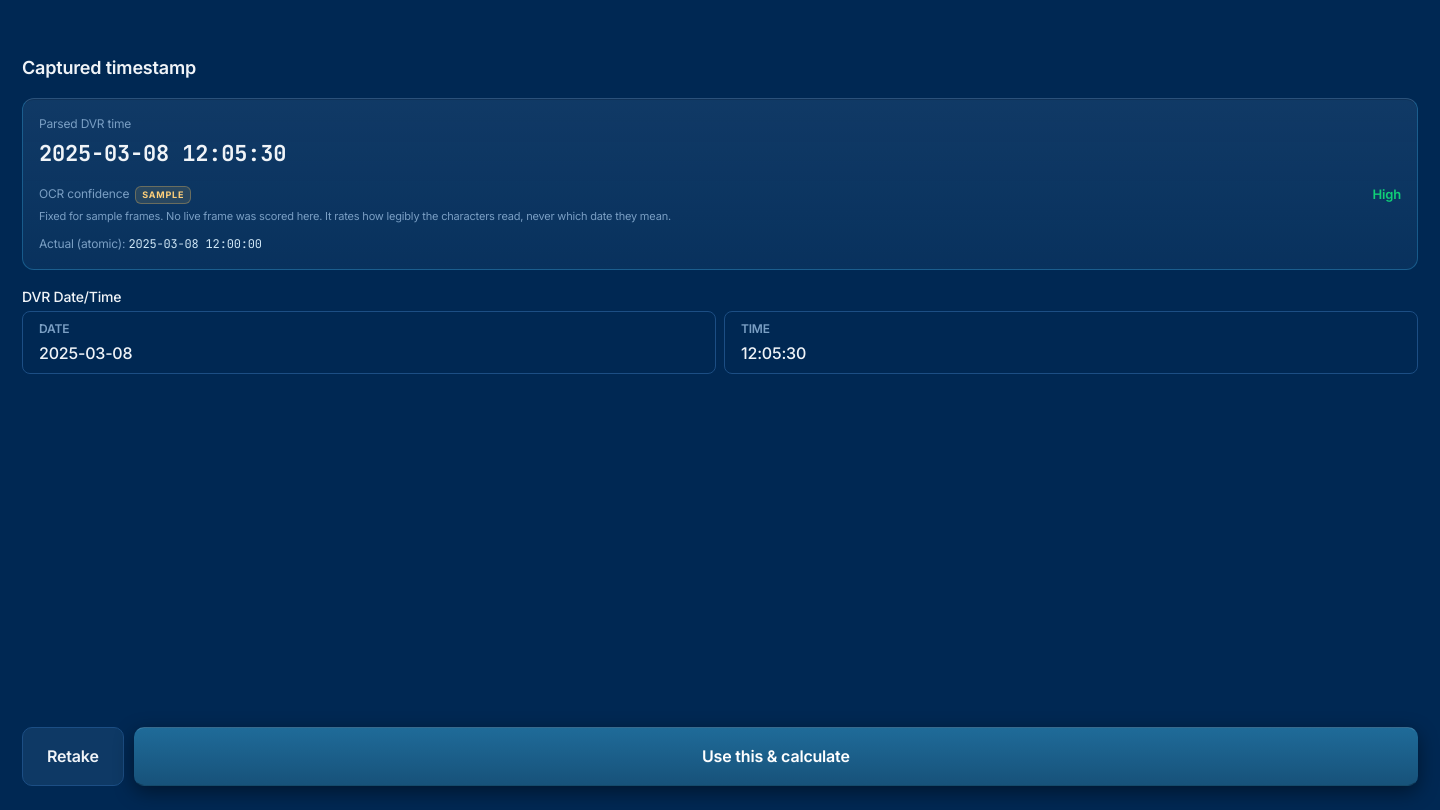
Scenario: OcrCaptureScreen › recalculate guard (extracted scopes exist) › asks instead of committing, with the phone’s title and message verbatim
The width and height of the screenshot is (1440, 810).
Click the button "Use this & calculate" at coordinates (776, 757), box [134,728,1418,786]
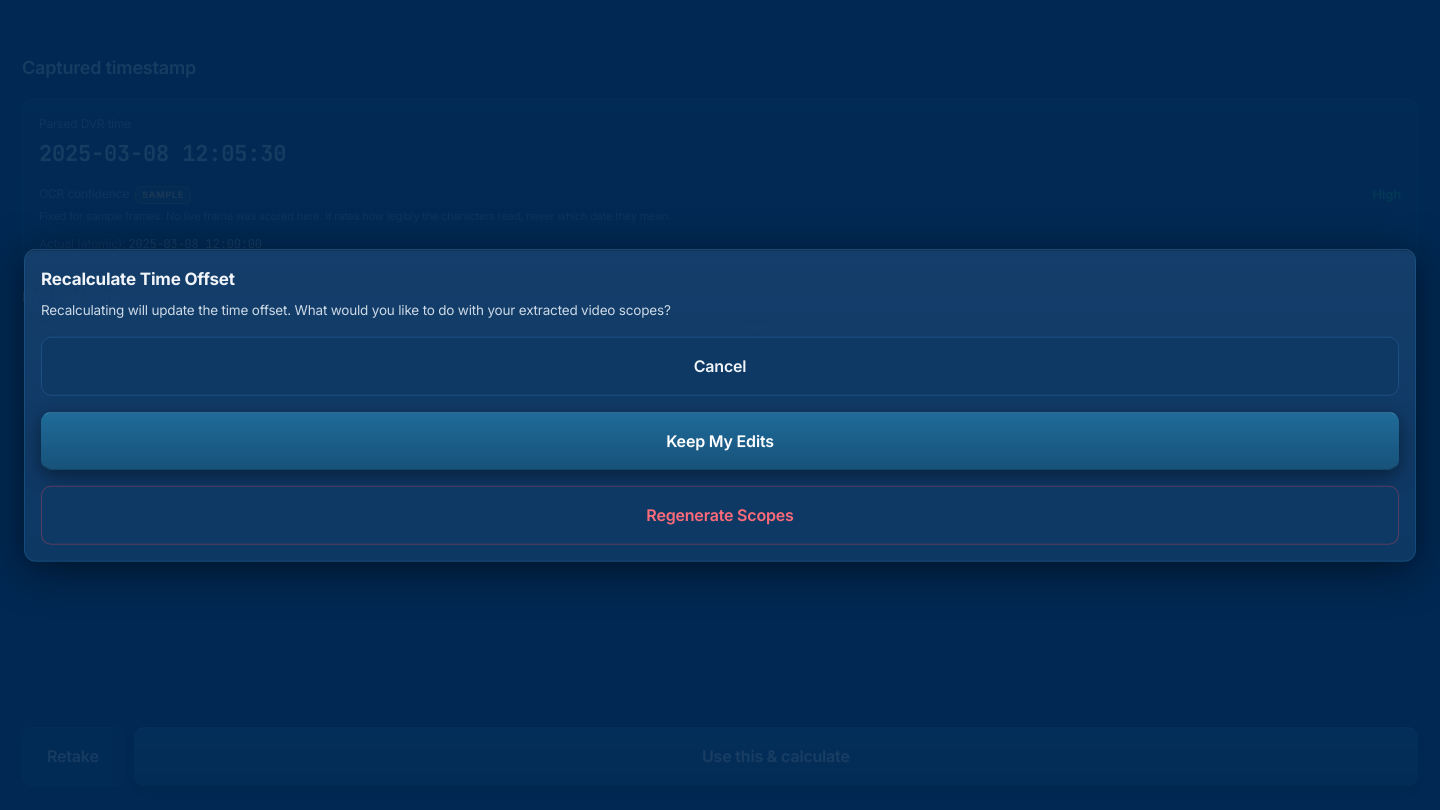
Expected: the dialog is shown, [24,249,1416,561]
Expected: the text "Recalculate Time Offset" is shown, [41,269,235,289]
Expected: the text "Recalculating will update the time offset. What would you like to do with your extracted video scopes?" is shown, [41,302,671,318]
